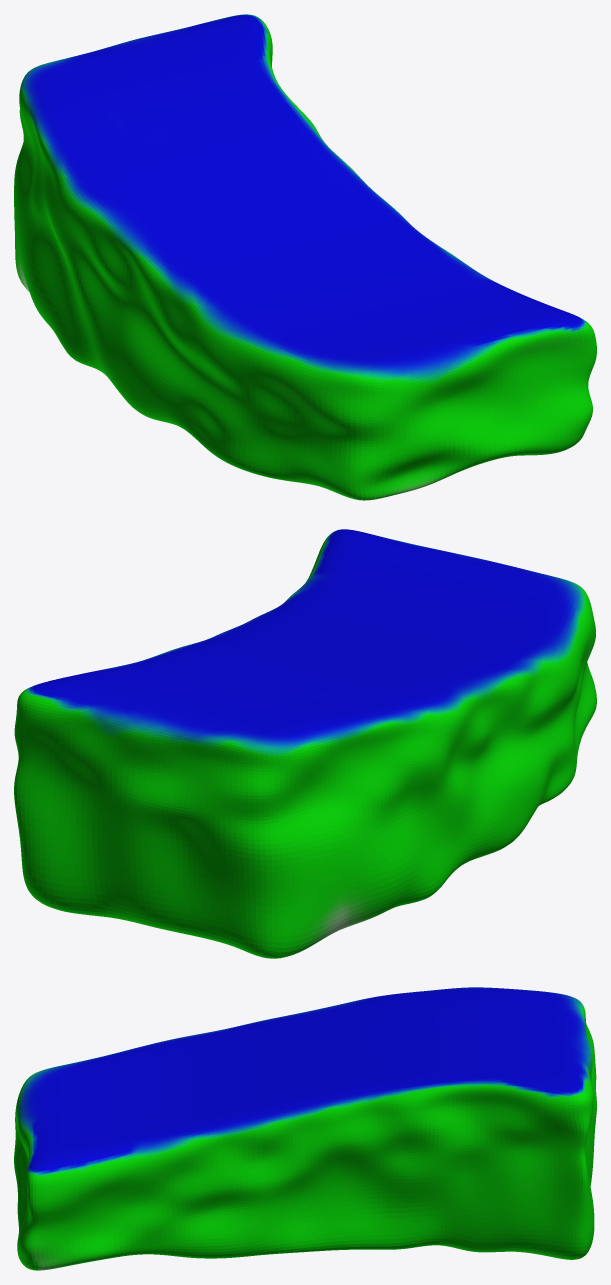
The model's file is level_one_vine_barrier_1.fbx.
3 views of the same model, one above another, from view 1: azimuth 30°, elevation 25°; view 2: azimuth 150°, elevation 25°; view 3: azimuth 270°, elevation 25° (orthographic). The views are drawn at different scales.
Visible parts, largest first — view 1: VineBarrier01; view 2: VineBarrier01; view 3: VineBarrier01.
Part boxes in pixels (bbox=[...]): VineBarrier01: bbox=[14, 14, 596, 500]; VineBarrier01: bbox=[14, 529, 596, 958]; VineBarrier01: bbox=[14, 987, 596, 1270].
Size of the model in its own units: 2421 by 1503 by 4325.
